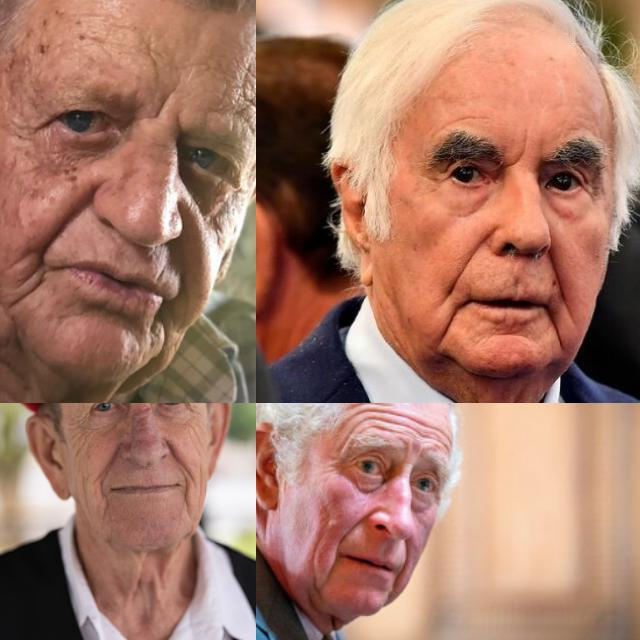crows_feet: (14, 106, 56, 144), (66, 412, 92, 438), (184, 403, 199, 428)
forehead: (232, 71, 256, 128), (442, 108, 500, 128), (134, 36, 164, 74), (406, 413, 436, 442), (378, 404, 402, 434), (354, 403, 373, 429)
frown_line: (145, 86, 183, 126), (508, 134, 530, 172)
gummy_smile: (36, 191, 92, 251), (446, 230, 484, 286), (542, 250, 568, 298), (340, 506, 368, 542), (166, 440, 192, 478), (100, 442, 122, 482), (397, 536, 411, 578)
masseter: (304, 547, 320, 595)
sad_smile: (8, 264, 48, 308), (145, 309, 171, 361), (438, 302, 462, 348), (544, 315, 572, 349), (178, 477, 194, 507), (96, 486, 112, 514), (321, 551, 335, 579)
